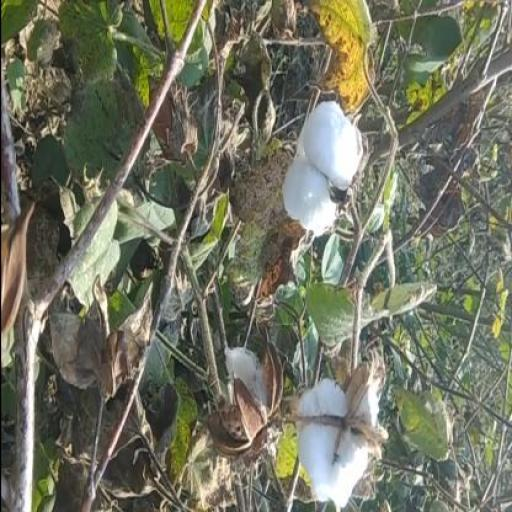cotton_ready: (278, 356, 387, 512), (278, 80, 356, 246)
